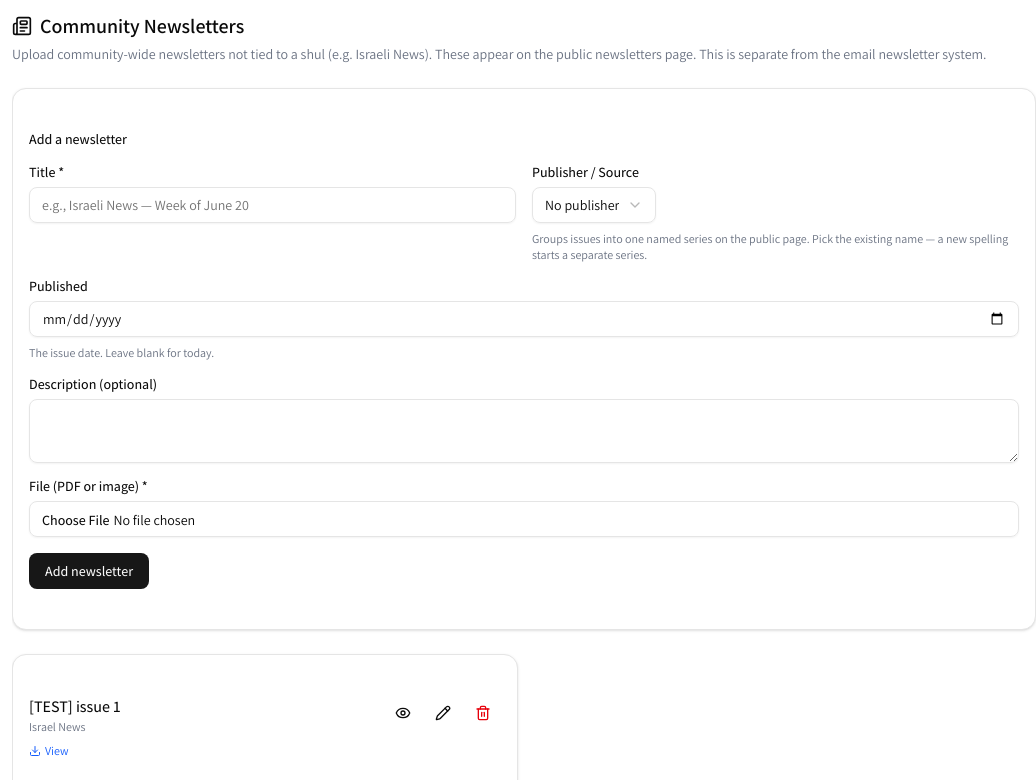
Scenario: admin community newsletters › makes introducing a new publisher a deliberate, separate step
Expected: the text "[TEST] issue 1" is shown, [29,695,120,719]
Click the dropdown named "Publisher / Source" at (594, 205), box [532,187,656,223]
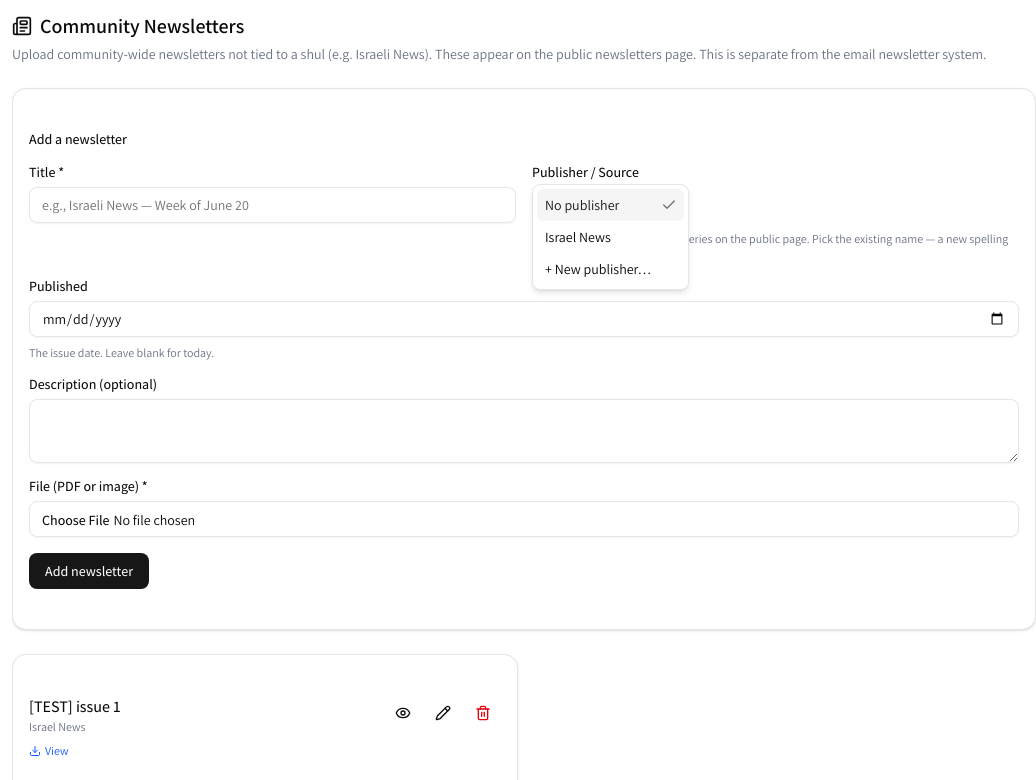
Click the option "+ New publisher…" at (598, 269), box [545,260,652,278]
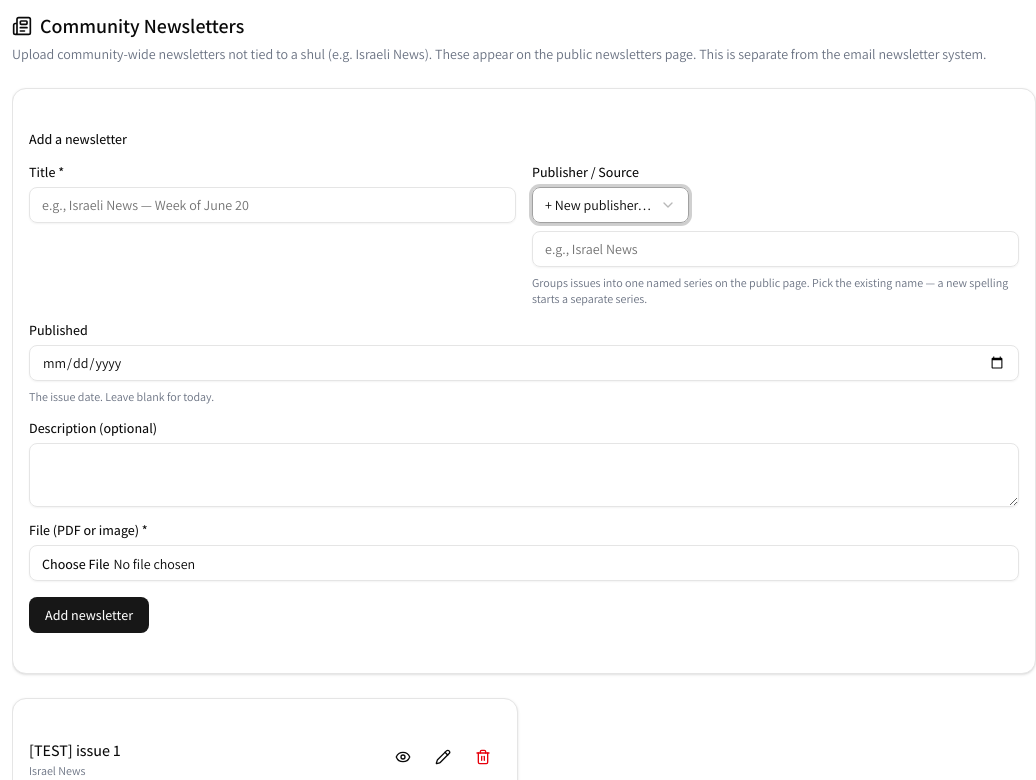
Expected: the field with placeholder "e.g., Israel News" is shown, [532,231,1019,267]
